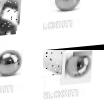ironball: (60, 51, 93, 86), (0, 0, 22, 38), (43, 50, 69, 78), (0, 49, 23, 76), (54, 0, 81, 11)
